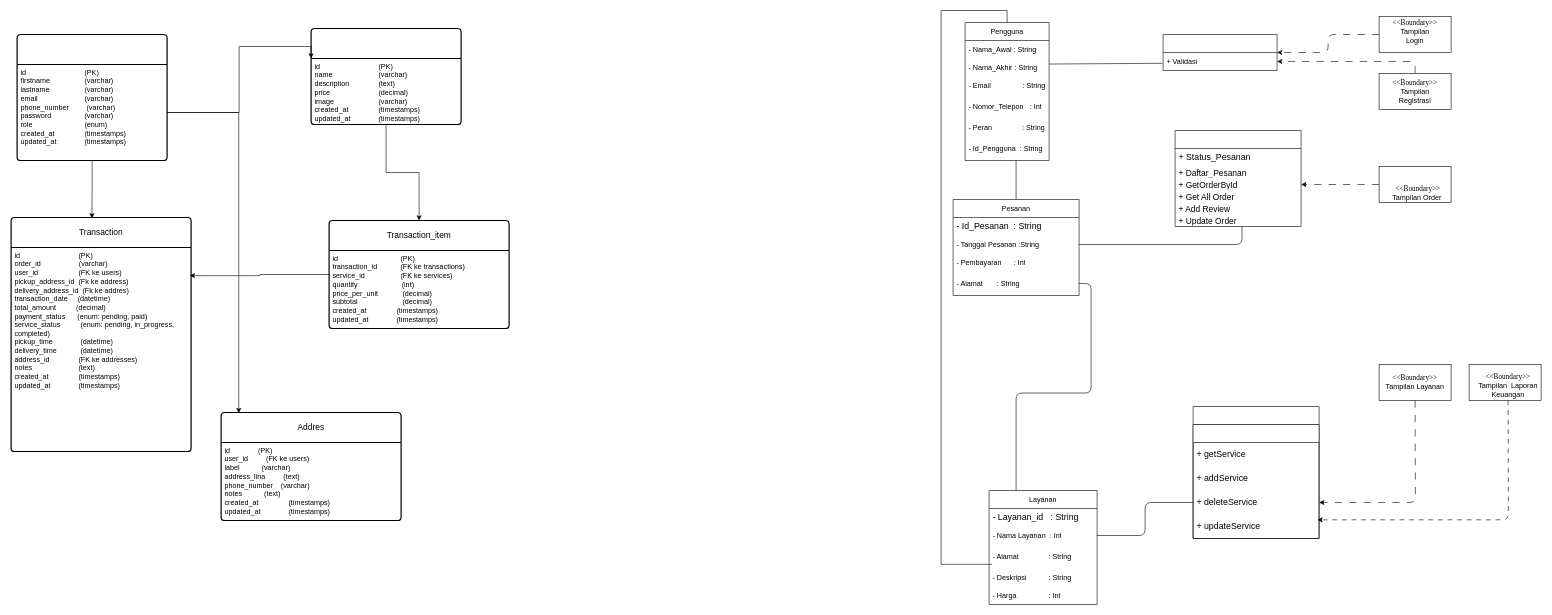
Some shapes in this 1552 by 615 pixel diagram are drawn without their labels. Here are the shapes that lost their labels. From the top down, the box of each, then its label:
(1162, 34, 1277, 70): <<Controller>> Kelola Akun
(310, 28, 461, 125): services
(16, 34, 167, 161): users
(1174, 130, 1301, 226): <<Controller>> Kelola Pesanan
(1192, 406, 1319, 538): <<Controller>> Kelola Layanan
